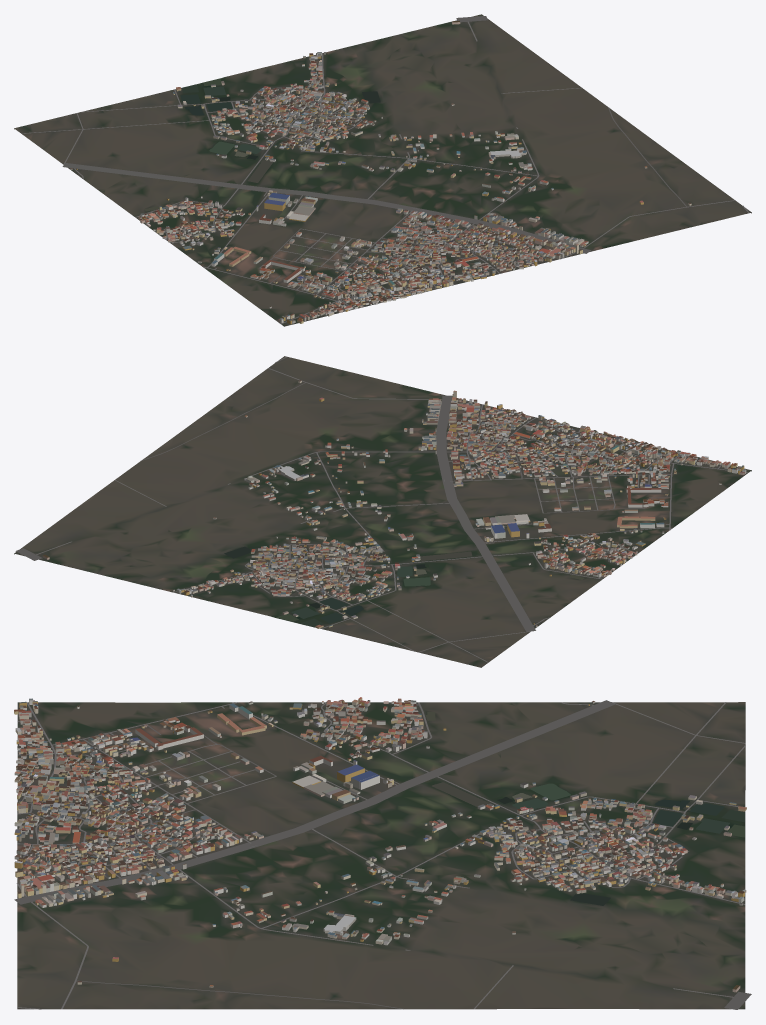
3 renders of one model, top to bottom at view 1: azimuth 30°, elevation 25°; view 2: azimuth 150°, elevation 25°; view 3: azimuth 270°, elevation 25°, orthographic. The views are drawn at different scales.
Visible parts, largest first — view 1: ground, buildings, roads, water; view 2: ground, buildings, roads, water; view 3: ground, buildings, roads, water.
Boxes of the visible parts, x1=… form: ground: x1=14, y1=14, x2=751, y2=326; buildings: x1=70, y1=20, x2=691, y2=324; roads: x1=21, y1=16, x2=749, y2=324; water: x1=144, y1=78, x2=380, y2=211; ground: x1=14, y1=356, x2=751, y2=667; buildings: x1=42, y1=380, x2=746, y2=628; roads: x1=15, y1=356, x2=748, y2=662; water: x1=224, y1=546, x2=584, y2=626; ground: x1=17, y1=702, x2=745, y2=1009; buildings: x1=14, y1=697, x2=746, y2=992; roads: x1=14, y1=700, x2=751, y2=1009; water: x1=425, y1=712, x2=744, y2=905.
Bounding box in the file's own units: 1414 × 27.57 × 1421.
